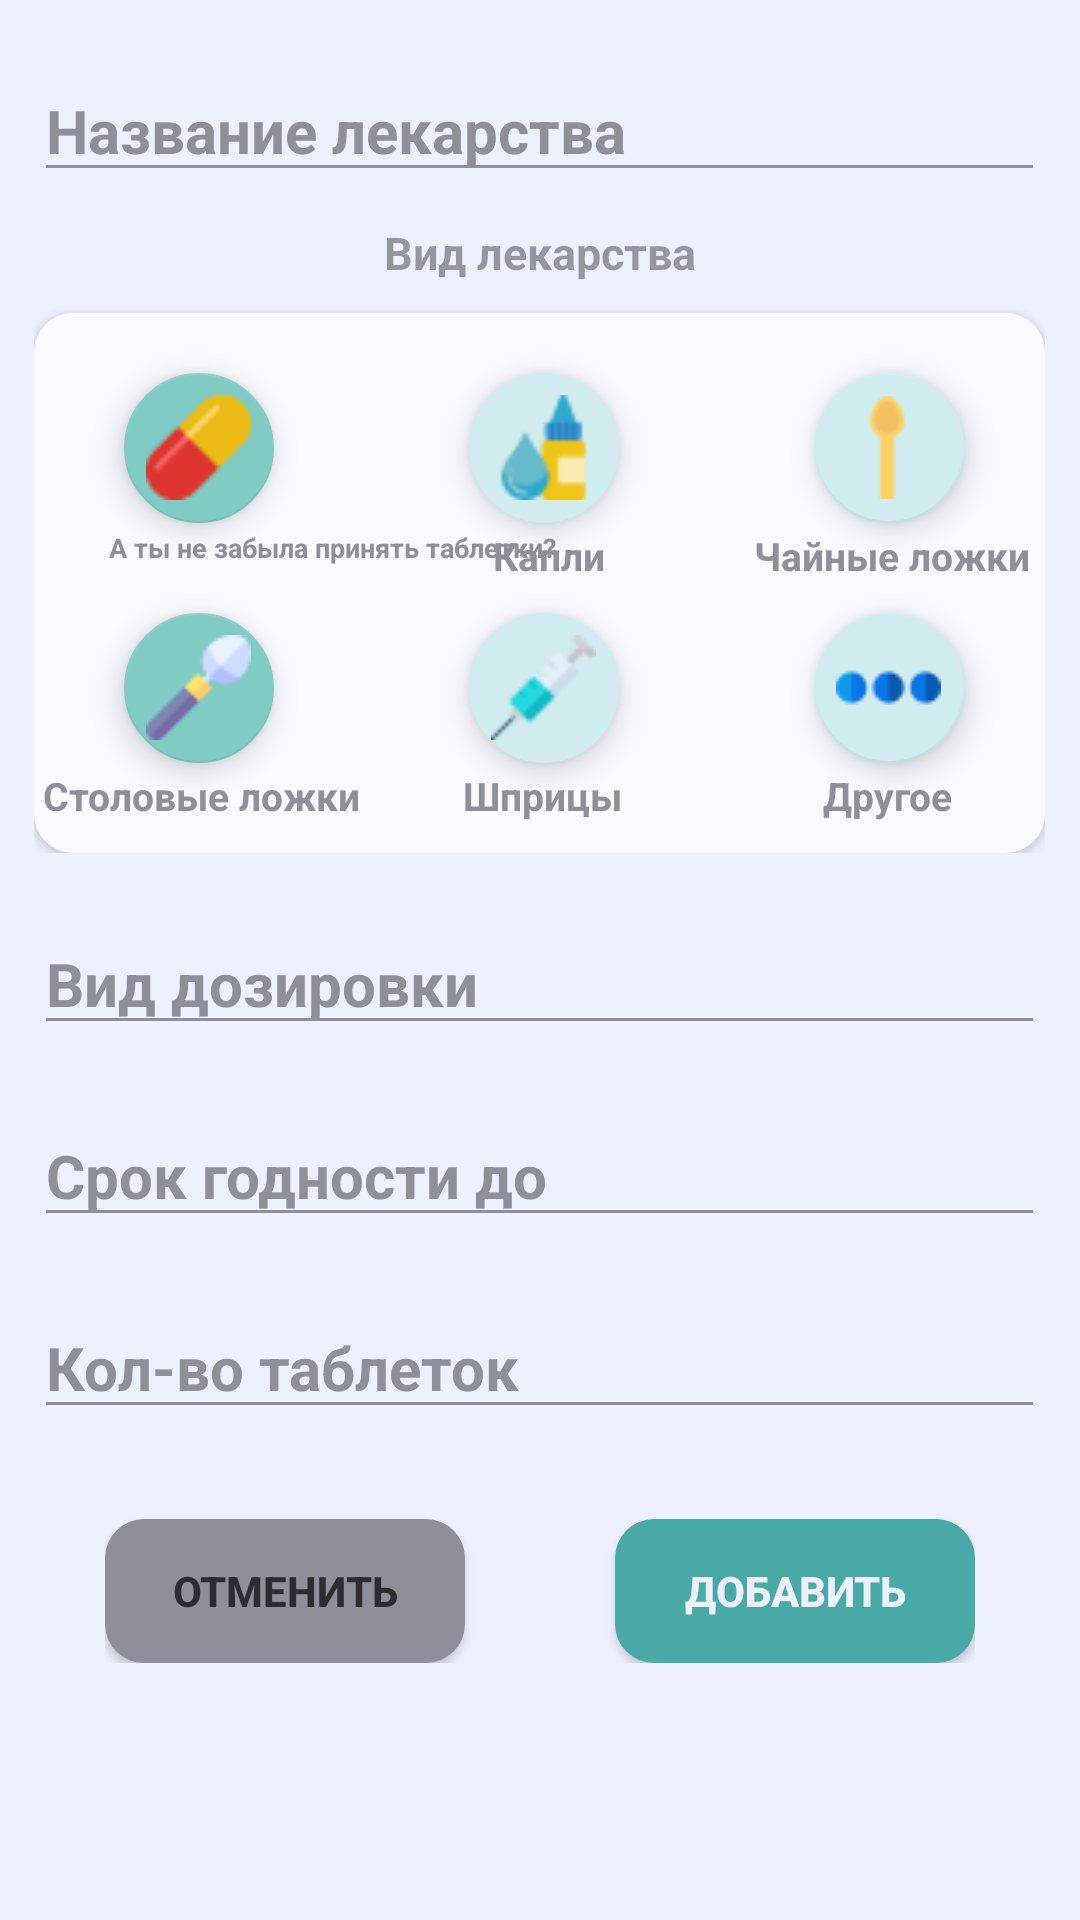

Where icons sit on this 1080px x 1920px app screen, as (x1, y1, x2, y2):
more: (814, 613, 964, 763)
tablet: (124, 373, 274, 523)
